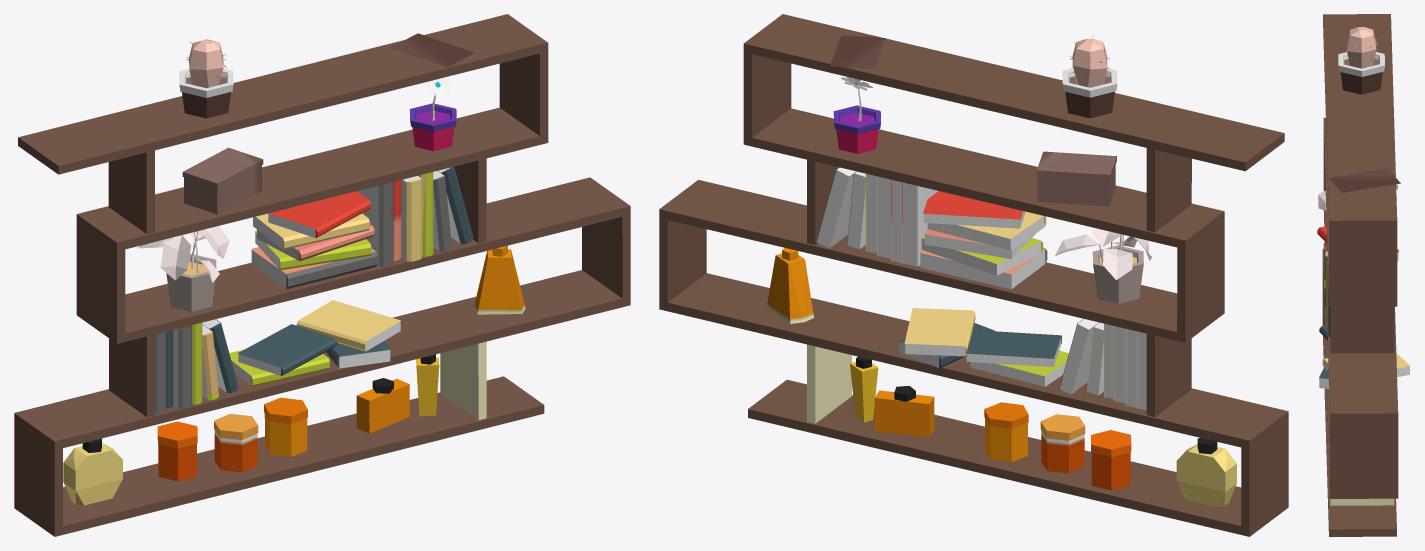
The model's file is BookShelf2.fbx.
3 renders of one model, left to right at view 1: azimuth 30°, elevation 25°; view 2: azimuth 150°, elevation 25°; view 3: azimuth 270°, elevation 25°, orthographic. The views are drawn at different scales.
Parts seen in each view (by area): view 1: BookShelf2; view 2: BookShelf2; view 3: BookShelf2.
Boxes of the visible parts, left/top/right/bottom form: BookShelf2: left=14, top=14, right=630, bottom=536; BookShelf2: left=659, top=14, right=1288, bottom=536; BookShelf2: left=1317, top=14, right=1410, bottom=536.
Bounding box in the file's own units: 70.65 × 51.02 × 11.44.
